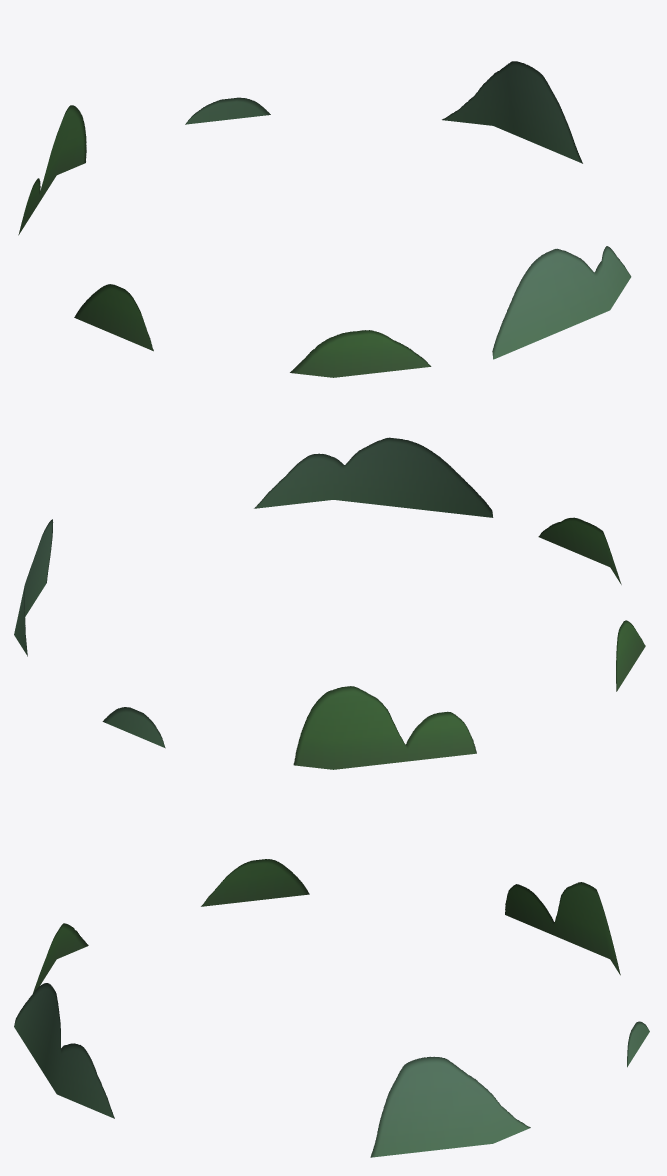
Rendered from yama.FBX.
The picture shows the model from 3 angles, top to bottom: view 1: azimuth 30°, elevation 25°; view 2: azimuth 150°, elevation 25°; view 3: azimuth 270°, elevation 25°; orthographic projection.
Visible parts, largest first — view 1: yama; view 2: yama; view 3: yama.
Part boxes in pixels (<box>): yama: <box>18,61,631,377</box>; yama: <box>14,437,645,769</box>; yama: <box>14,859,649,1157</box>.
Size of the model in its own units: 263 by 46.81 by 263.
